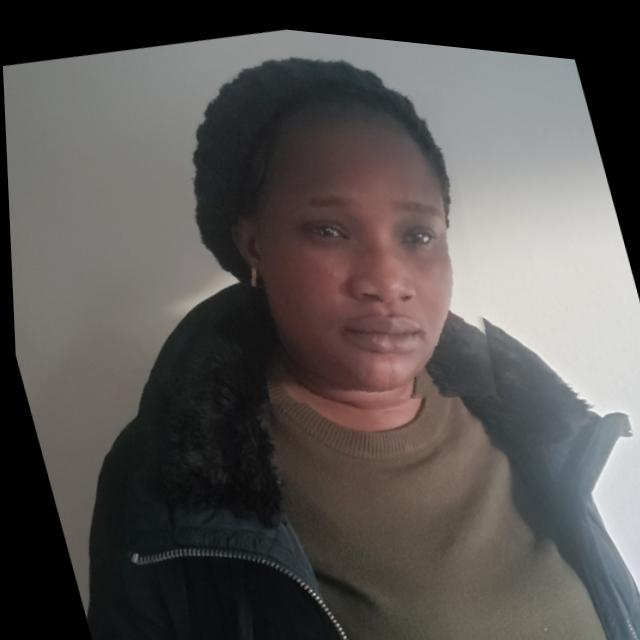sad: (195, 45, 514, 431)
